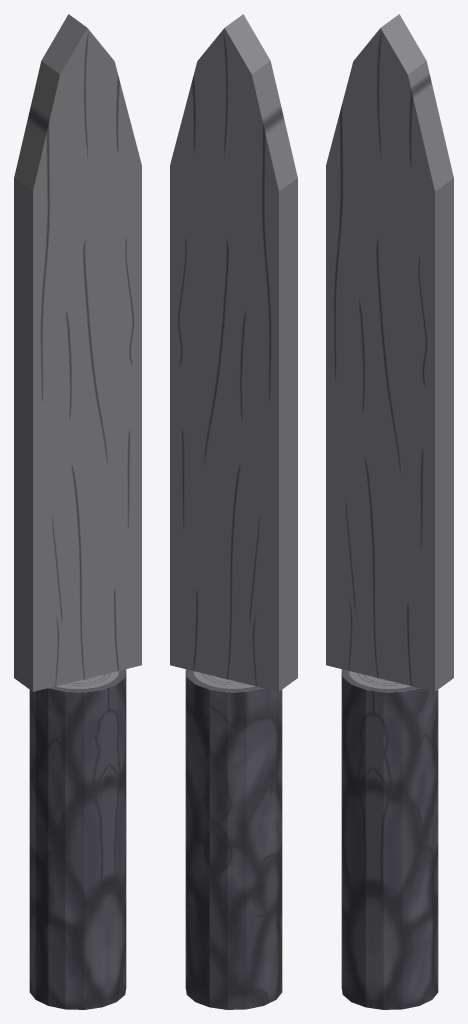
The model's file is WoodenDagger.fbx.
3 views of the same model, side by side, from view 1: azimuth 30°, elevation 25°; view 2: azimuth 150°, elevation 25°; view 3: azimuth 330°, elevation 25° (orthographic).
Parts seen in each view (by area): view 1: Dagger; view 2: Dagger; view 3: Dagger.
Boxes of the visible parts, bbox=[...] form: Dagger: bbox=[14, 14, 141, 1009]; Dagger: bbox=[170, 14, 297, 1009]; Dagger: bbox=[326, 14, 453, 1009].
Bounding box in the file's own units: 0.1065 × 0.0827 × 0.9045.
Materials: 1 (1 with a texture image).
